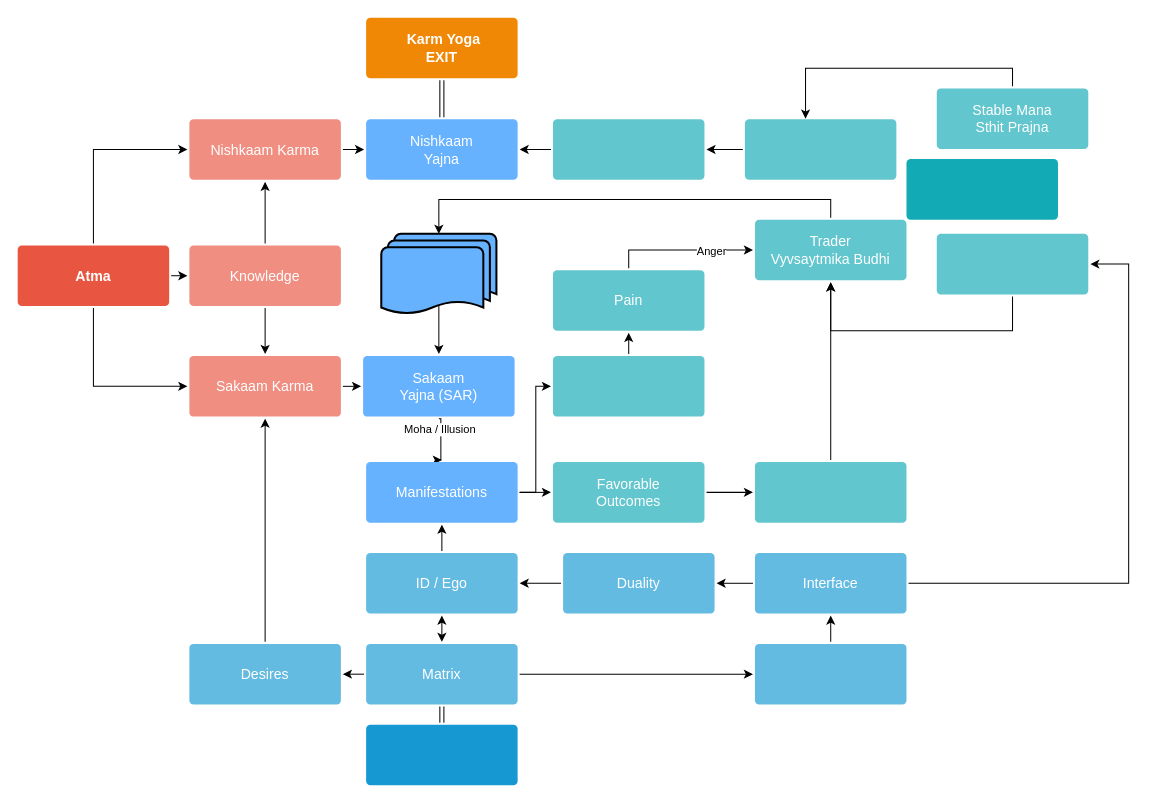
Some shapes in this 1154 by 802 pixel diagram are drawn without their labels. Here are the shapes that lost their labels. From the top down, the centre of each, then its label:
At (628,149): "Expansive /Encompassing".
At (820,149): "Stable Samttva Buddhi".
At (981,189): "Prakriti Intelligence".
At (438,273): "Infinite Options".
At (1012,263): "Fickle Mind".
At (628,386): "Unfavorable Outcomes".
At (830,492): "Happiness".
At (830,673): "Senses".
At (441,754): "Kaam Yoga SURVIVAL".
